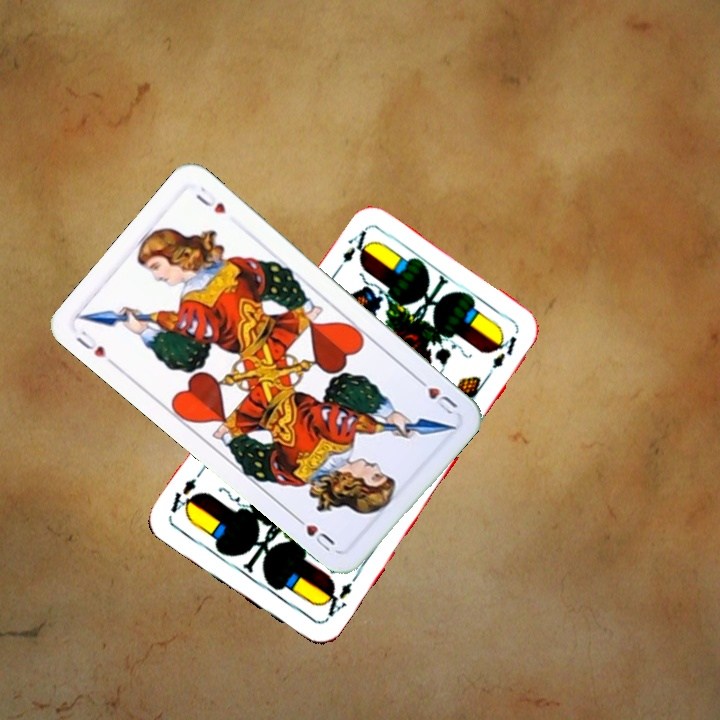EA: (330, 225, 375, 277), (316, 571, 360, 624)
HU: (411, 372, 460, 418), (71, 326, 109, 361)
